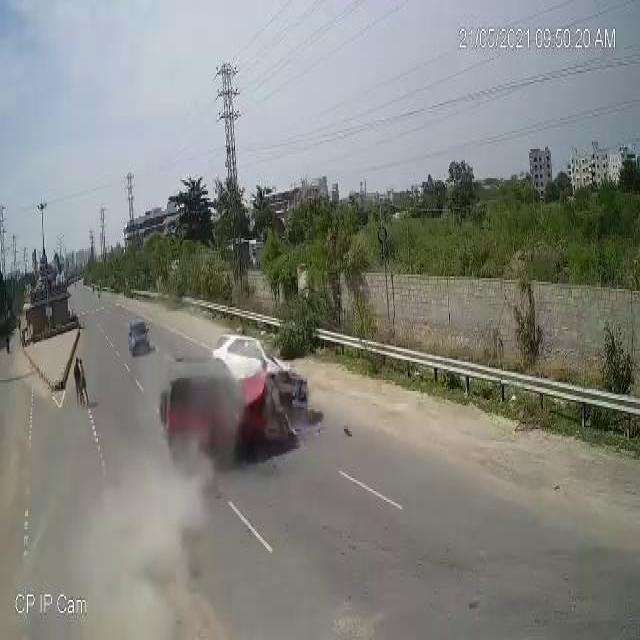accident: (158, 318, 316, 482)
